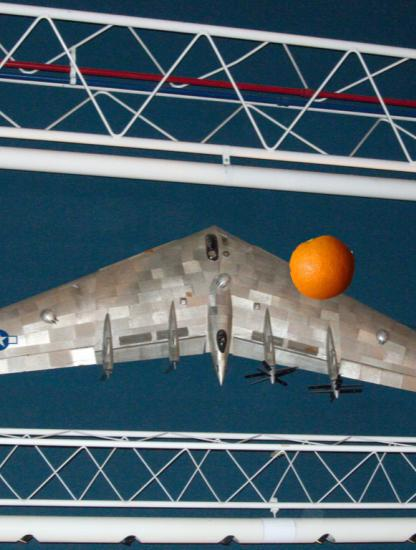Orange: (290, 235, 356, 301)
